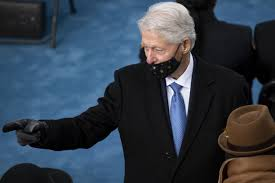mask_weared_incorrect: (140, 19, 188, 77)
